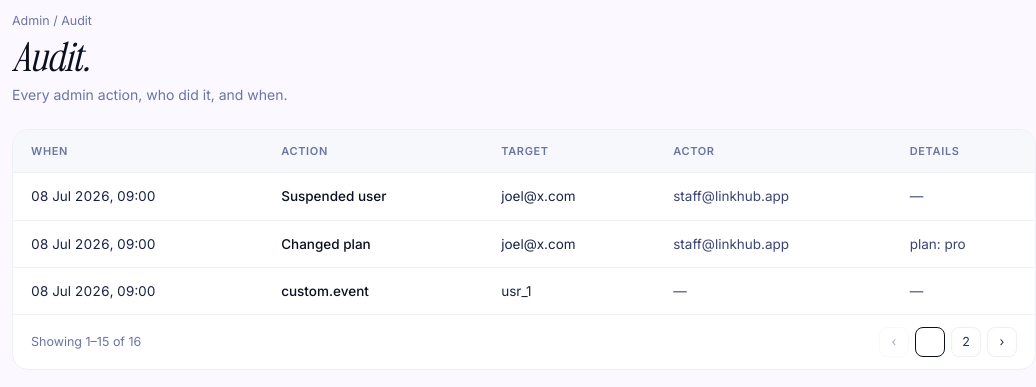
Test: AuditClient › pages through the log
Expected: the text "Suspended user" is shown, left=263, top=173, right=483, bottom=220
Click the button named "Page 2" at (966, 342), box left=951, top=327, right=981, bottom=357
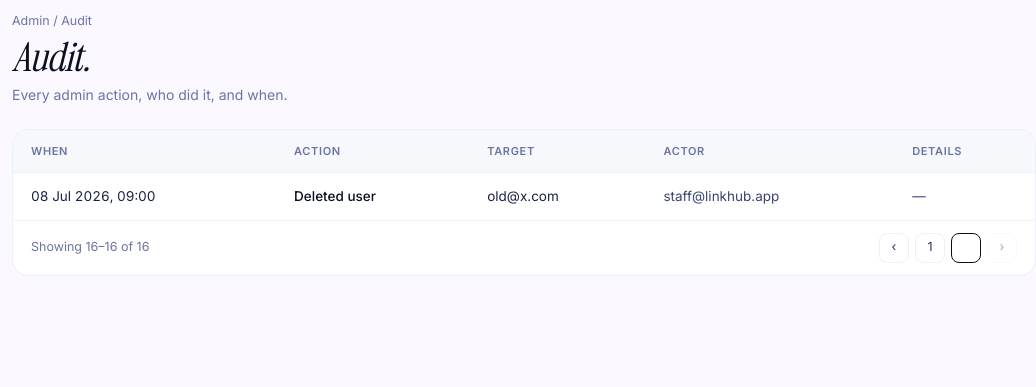
Result: the text "Deleted user" is shown at left=276, top=173, right=469, bottom=220
